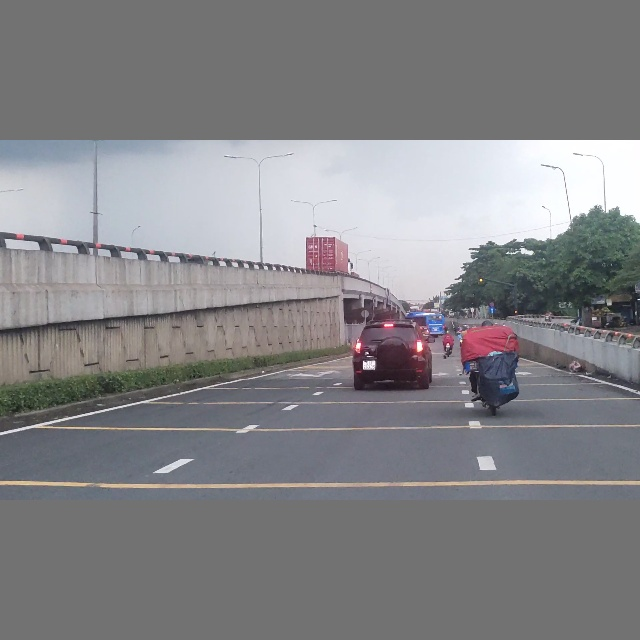I.407a: (489, 307, 496, 313)
